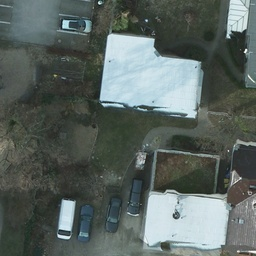car: (126, 181, 143, 216), (105, 197, 122, 232), (77, 205, 94, 240), (57, 202, 74, 237), (58, 16, 91, 34)
